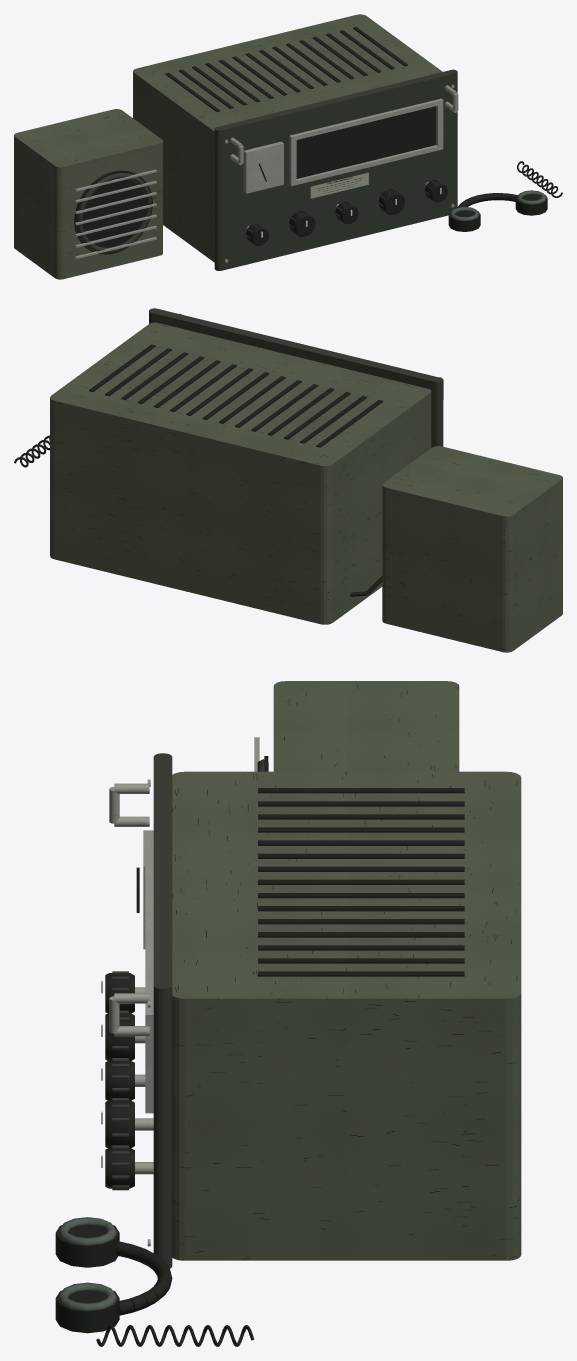
The model's file is SM_FieldKit_Receiver.glb.
The picture shows the model from 3 angles, top to bottom: view 1: azimuth 30°, elevation 25°; view 2: azimuth 150°, elevation 25°; view 3: azimuth 270°, elevation 25°; orthographic projection. The views are drawn at different scales.
Parts seen in each view (by area): view 1: SM_FieldKit_Receiver; view 2: SM_FieldKit_Receiver; view 3: SM_FieldKit_Receiver.
Boxes of the visible parts, bbox=[...] form: SM_FieldKit_Receiver: bbox=[14, 14, 562, 279]; SM_FieldKit_Receiver: bbox=[14, 308, 562, 652]; SM_FieldKit_Receiver: bbox=[55, 681, 521, 1346].
Size of the model in its own units: 1.03 by 0.309 by 0.451.
Materials: 7 (3 with a texture image).
